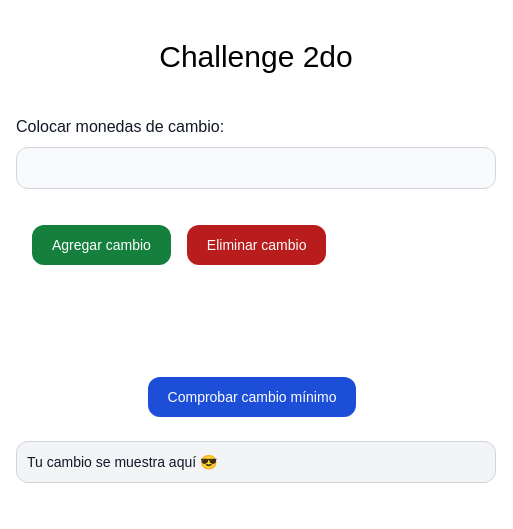
SecondChallengeScreen › should display the minimum change after submit
// Simula agregar monedas
Type "1" into the field labelled "Colocar monedas de cambio:" at (256, 168), box [16, 147, 496, 189]
Click the button "Agregar cambio" at (101, 245), box [32, 225, 171, 265]
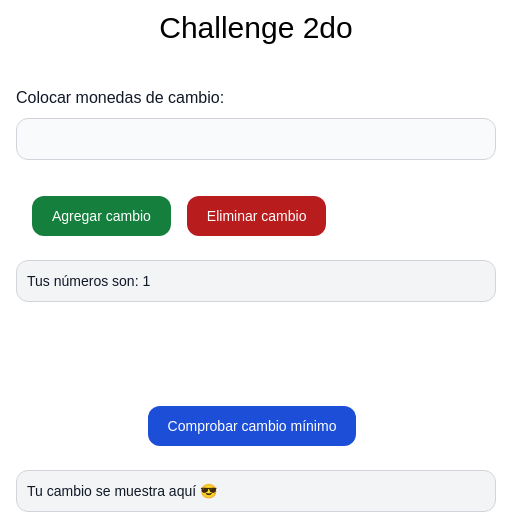
Type "2" into the field labelled "Colocar monedas de cambio:" at (256, 139), box [16, 118, 496, 160]
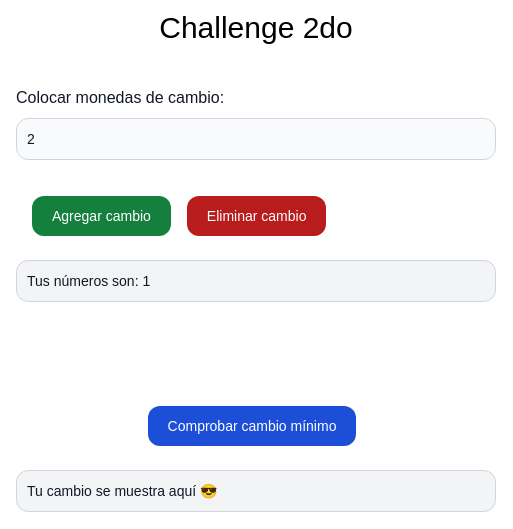
Click the button "Agregar cambio" at (101, 216), box [32, 196, 171, 236]
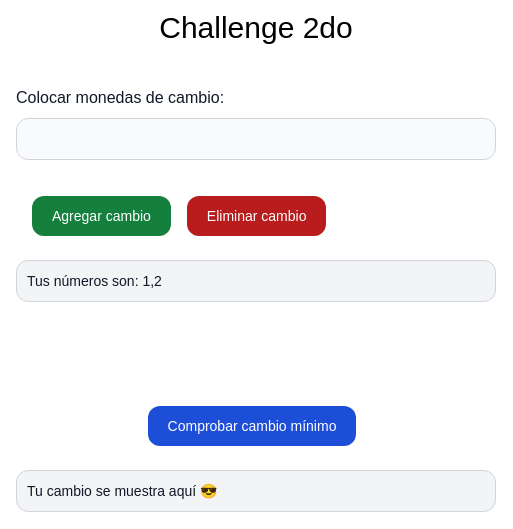
Type "5" into the field labelled "Colocar monedas de cambio:" at (256, 139), box [16, 118, 496, 160]
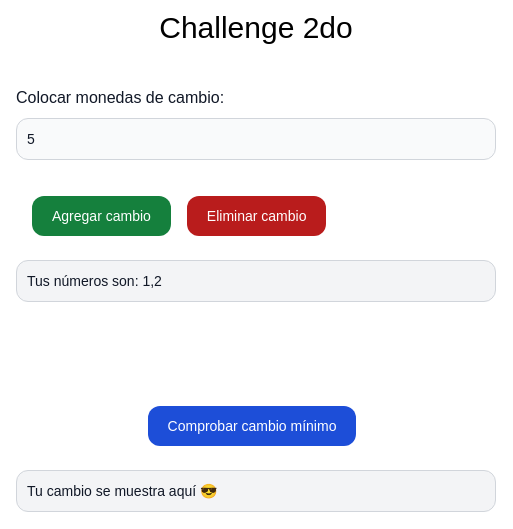
Click the button "Agregar cambio" at (101, 216), box [32, 196, 171, 236]
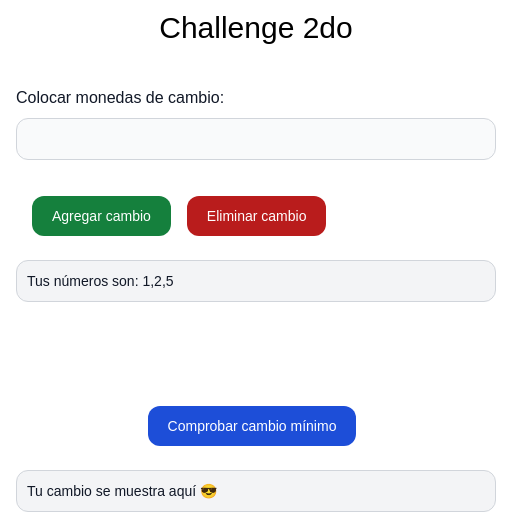
// Simula hacer submit
Click the button "Comprobar cambio mínimo" at (252, 426), box [148, 406, 356, 446]
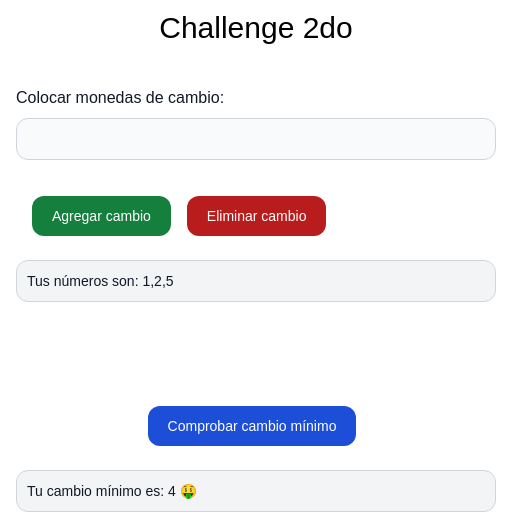
Expected: the 2nd field showing "Tu cambio mínimo es: 4 🤑" is shown, [16, 470, 496, 512]
